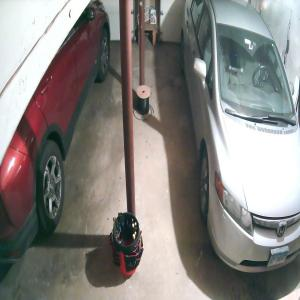honda civic: (180, 0, 299, 273)
honda crv: (0, 0, 111, 264)
tool bucket: (109, 211, 144, 277)
